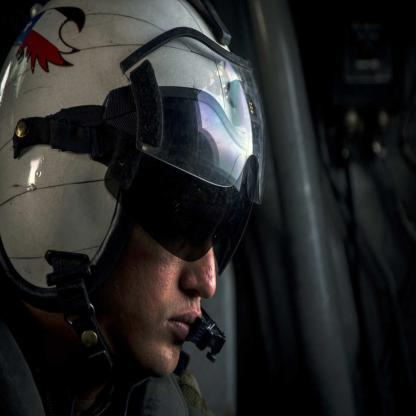Helmet: (17, 8, 267, 337)
